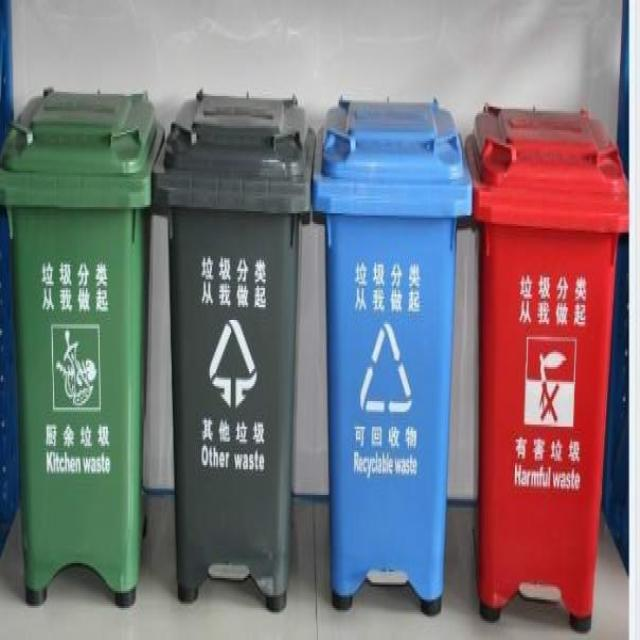garbage_bin: (463, 100, 629, 630), (0, 85, 164, 608), (152, 90, 314, 610), (312, 96, 469, 614)
